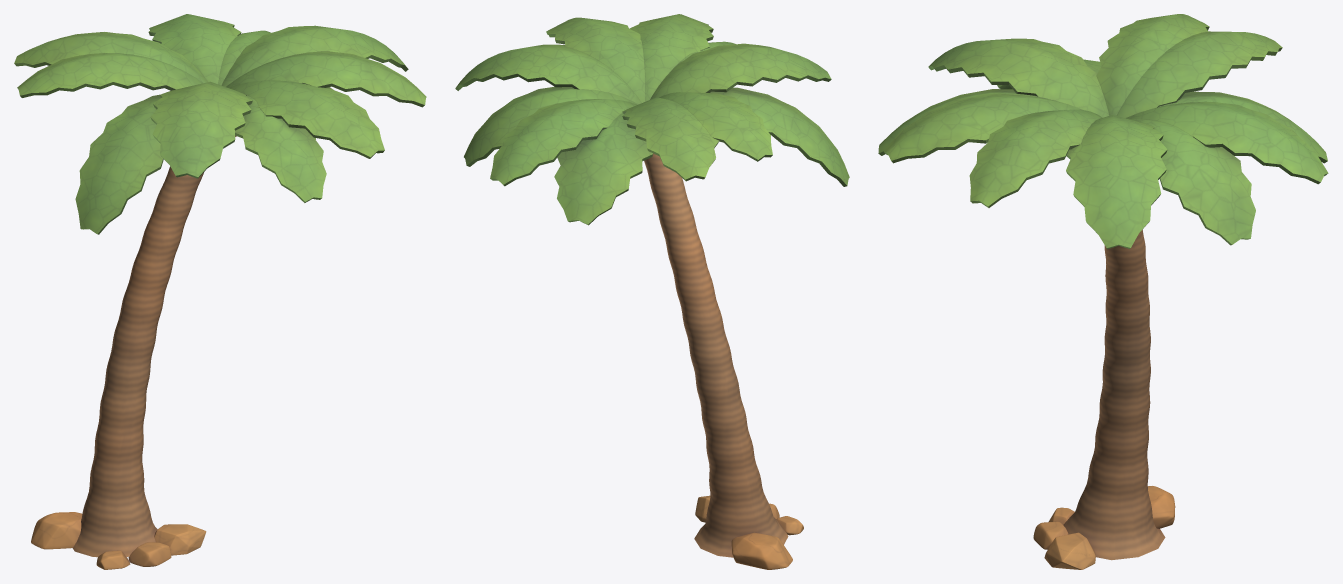
The model's file is SD_P01_Palm.fbx.
The picture shows the model from 3 angles, left to right: view 1: azimuth 30°, elevation 25°; view 2: azimuth 150°, elevation 25°; view 3: azimuth 270°, elevation 25°; orthographic projection. The views are drawn at different scales.
Parts seen in each view (by area): view 1: Fronds_LOD0, Trunk_LOD0; view 2: Fronds_LOD0, Trunk_LOD0; view 3: Fronds_LOD0, Trunk_LOD0.
Boxes of the visible parts, left/top/right/bottom form: Fronds_LOD0: left=14, top=14, right=426, bottom=234; Trunk_LOD0: left=31, top=135, right=236, bottom=569; Fronds_LOD0: left=455, top=14, right=849, bottom=225; Trunk_LOD0: left=644, top=153, right=803, bottom=569; Fronds_LOD0: left=878, top=14, right=1328, bottom=249; Trunk_LOD0: left=1033, top=230, right=1175, bottom=569.
Size of what is drawn, in the model's own units: 2.84 by 3.5 by 2.77.
